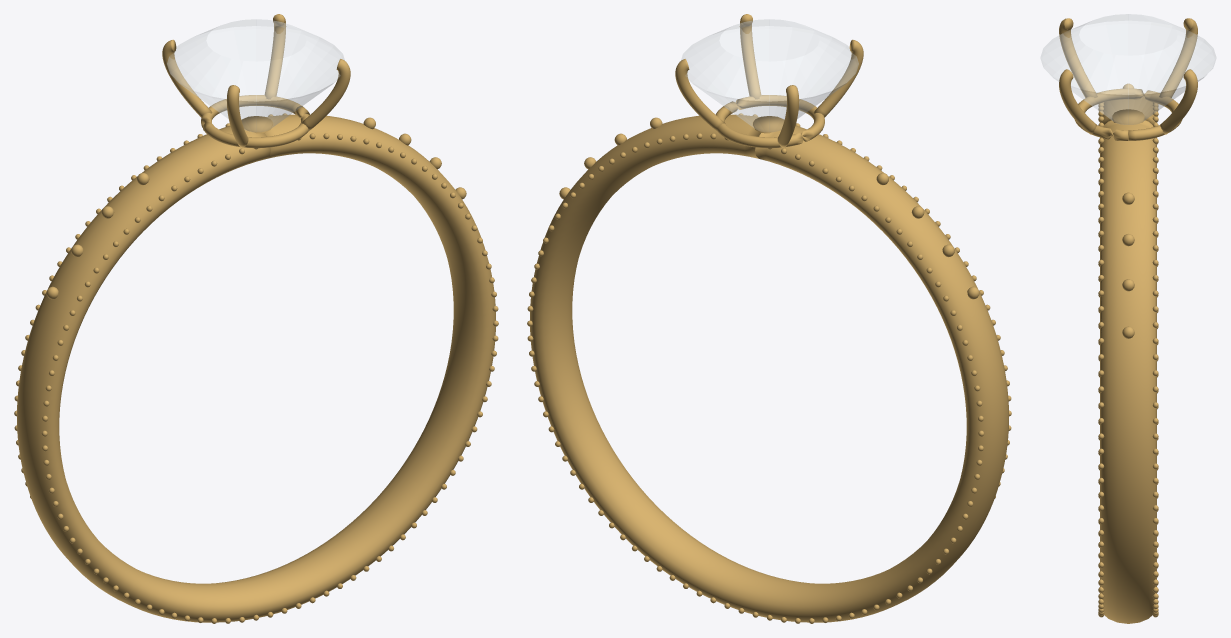
Rendered from bands-vintage.glb.
3 renders of one model, left to right at view 1: azimuth 30°, elevation 25°; view 2: azimuth 150°, elevation 25°; view 3: azimuth 270°, elevation 25°, orthographic.
Visible parts, largest first — view 1: Band, Gem, Lower gallery, Prong.001, Prong, Prong.003, Prong.002; view 2: Band, Gem, Lower gallery, Prong.002, Prong.003, Prong, Prong.001; view 3: Band, Gem, Lower gallery, Prong.001, Prong.002, Prong, Prong.003, Head stem.
Part boxes in pixels (x1=…): Band: x1=17, y1=114, x2=495, y2=622; Gem: x1=167, y1=19, x2=344, y2=131; Lower gallery: x1=201, y1=95, x2=309, y2=148; Prong.001: x1=162, y1=39, x2=212, y2=117; Prong: x1=264, y1=14, x2=286, y2=99; Prong.003: x1=300, y1=59, x2=350, y2=131; Prong.002: x1=226, y1=85, x2=248, y2=147; Band: x1=530, y1=114, x2=1008, y2=622; Gem: x1=681, y1=19, x2=858, y2=131; Lower gallery: x1=715, y1=95, x2=824, y2=148; Prong.002: x1=813, y1=39, x2=863, y2=117; Prong.003: x1=739, y1=14, x2=761, y2=99; Prong: x1=675, y1=59, x2=725, y2=131; Prong.001: x1=777, y1=85, x2=799, y2=147; Band: x1=1100, y1=97, x2=1156, y2=623; Gem: x1=1040, y1=14, x2=1216, y2=124; Lower gallery: x1=1075, y1=88, x2=1181, y2=140; Prong.001: x1=1159, y1=18, x2=1197, y2=97; Prong.002: x1=1059, y1=18, x2=1097, y2=97; Prong: x1=1160, y1=69, x2=1197, y2=134; Prong.003: x1=1059, y1=69, x2=1096, y2=134; Head stem: x1=1112, y1=109, x2=1144, y2=124.
Bounding box in the file's own units: 19.6 × 22.94 × 6.5.
